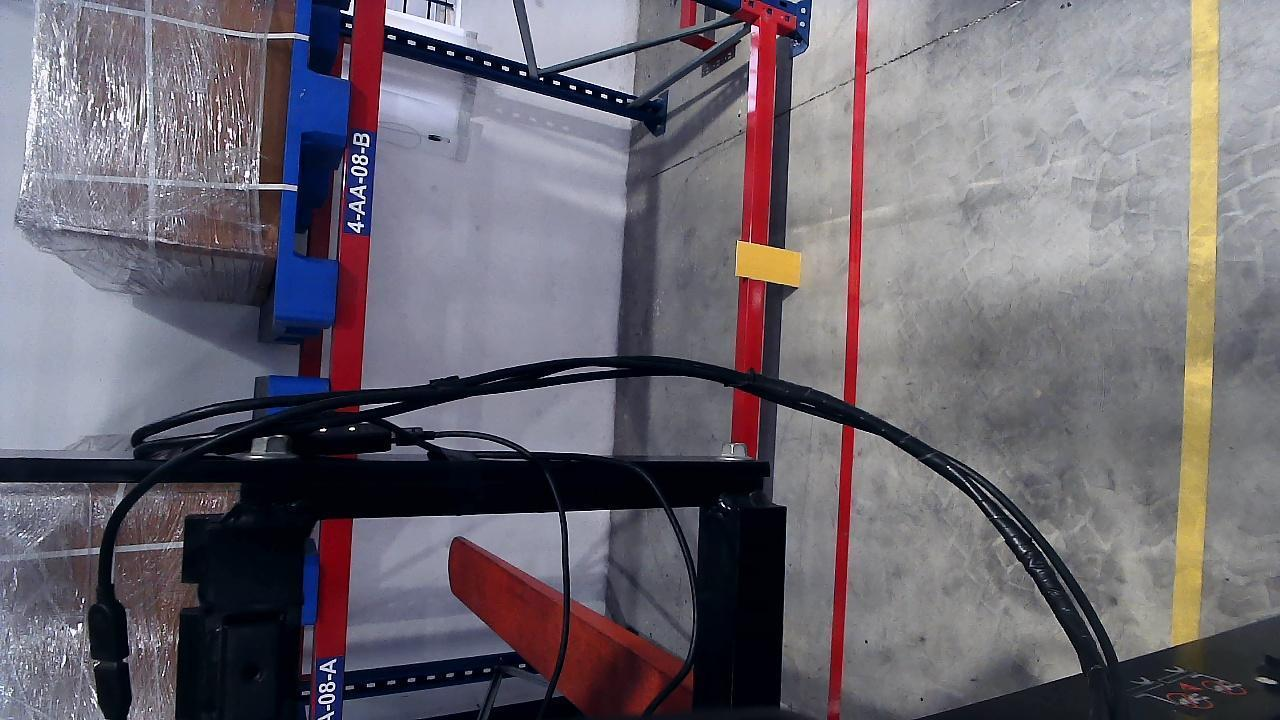red_line: (820, 4, 868, 720)
yellow_line: (1172, 0, 1221, 652)
